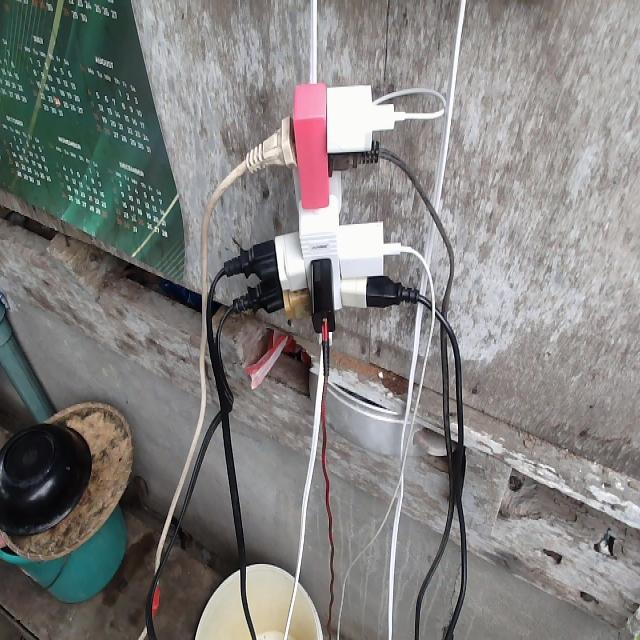-: (220, 76, 414, 341)
